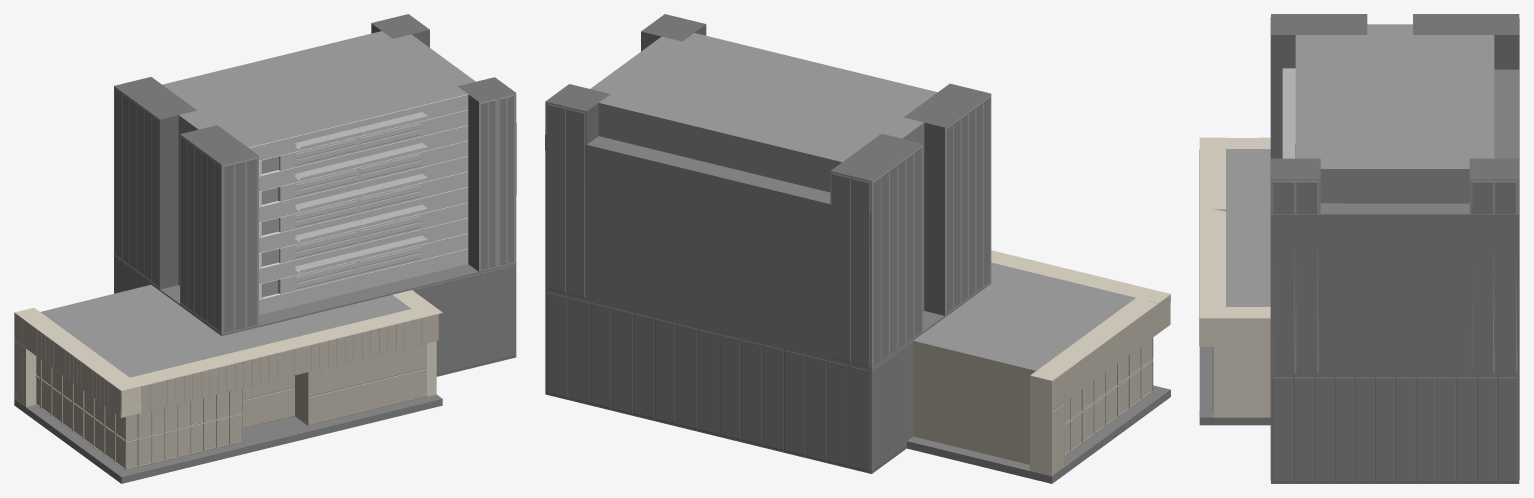
The picture shows the model from 3 angles, left to right: view 1: azimuth 30°, elevation 25°; view 2: azimuth 150°, elevation 25°; view 3: azimuth 270°, elevation 25°; orthographic projection. The views are drawn at different scales.
Parts seen in each view (by area): view 1: building_004, building_003; view 2: building_004, building_003; view 3: building_004, building_003.
Part boxes in pixels (left/top/right/bottom): building_004: left=114, top=14, right=516, bottom=376; building_003: left=14, top=285, right=442, bottom=483; building_004: left=545, top=14, right=991, bottom=473; building_003: left=906, top=250, right=1170, bottom=483; building_004: left=1270, top=14, right=1519, bottom=483; building_003: left=1199, top=137, right=1270, bottom=425.
Size of the model in its own units: 2190 by 1299 by 1237.
